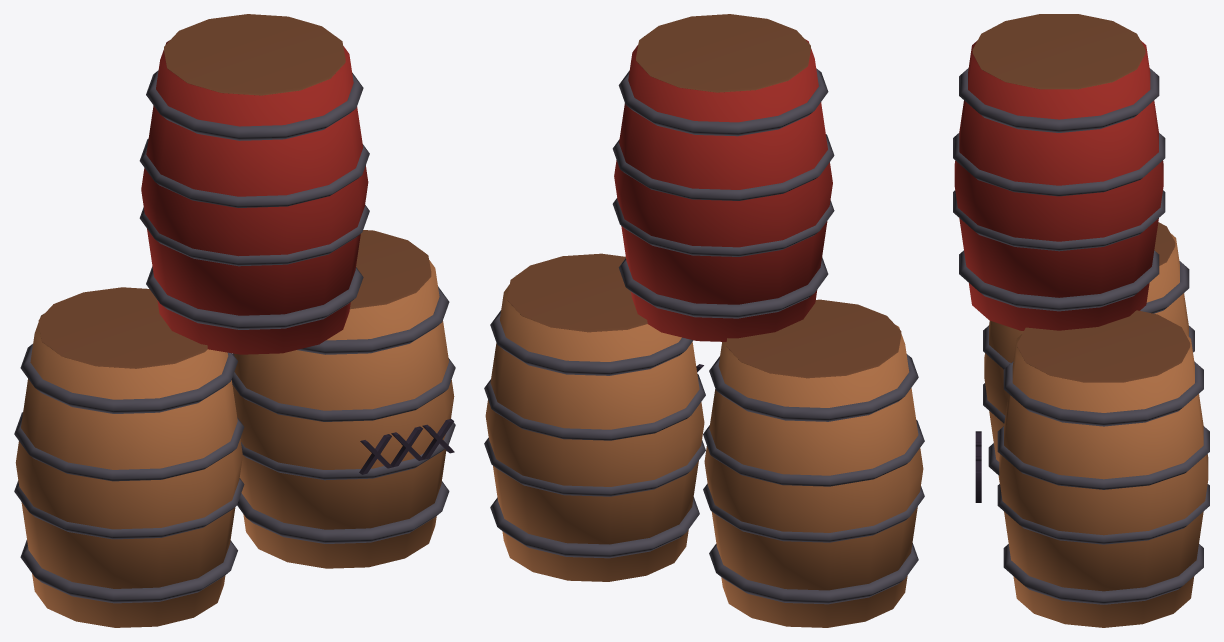
The model's file is gulch_barrels.glb.
3 views of the same model, side by side, from view 1: azimuth 30°, elevation 25°; view 2: azimuth 150°, elevation 25°; view 3: azimuth 270°, elevation 25° (orthographic). The views are drawn at different scales.
Parts seen in each view (by area): view 1: Barrels; view 2: Barrels; view 3: Barrels.
Part boxes in pixels (<box>): Barrels: <box>14,14,455,627</box>; Barrels: <box>484,14,924,627</box>; Barrels: <box>953,14,1209,627</box>.
Bounding box in the file's own units: 1.53 × 1.81 × 0.8617.
